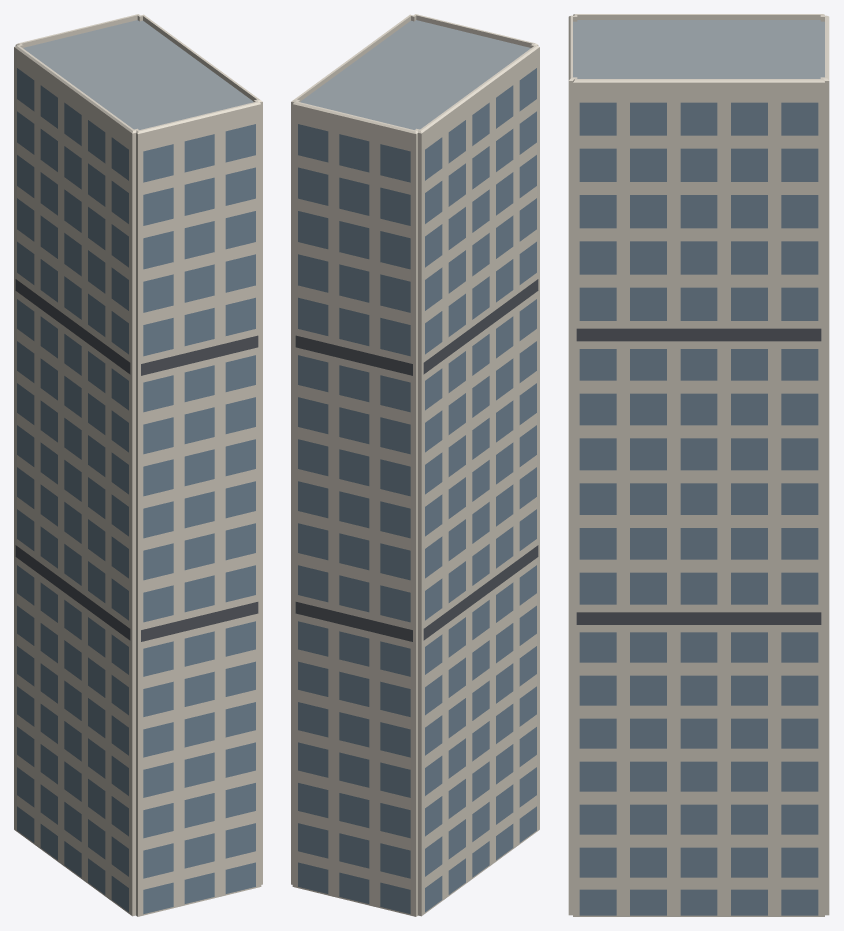
The model's file is den-republic-plaza.glb.
The picture shows the model from 3 angles, left to right: view 1: azimuth 30°, elevation 25°; view 2: azimuth 150°, elevation 25°; view 3: azimuth 270°, elevation 25°; orthographic projection. The views are drawn at different scales.
Parts seen in each view (by area): view 1: Republic Plaza; view 2: Republic Plaza; view 3: Republic Plaza.
Part boxes in pixels (x1=…): Republic Plaza: x1=14, y1=14, x2=262, y2=916; Republic Plaza: x1=291, y1=14, x2=539, y2=916; Republic Plaza: x1=568, y1=14, x2=829, y2=916.
Bounding box in the file's own units: 38.1 × 218 × 61.8.
